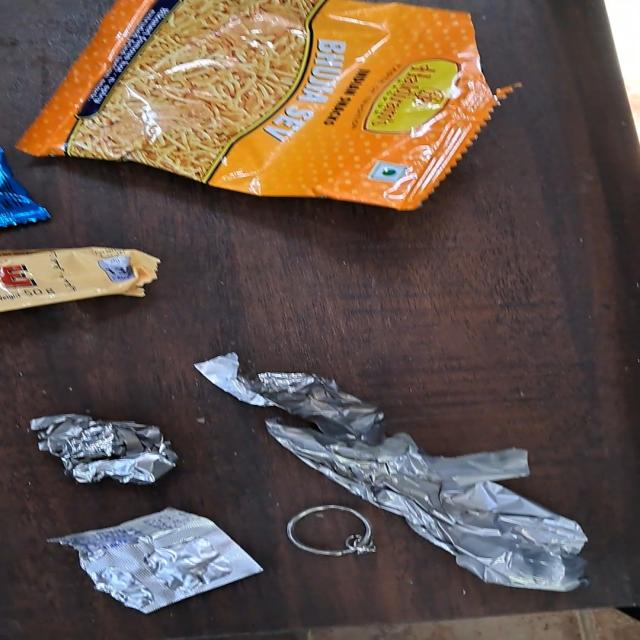Anorganik: (12, 0, 545, 232), (180, 343, 640, 601), (50, 510, 272, 622), (20, 397, 198, 498), (282, 496, 391, 562)
